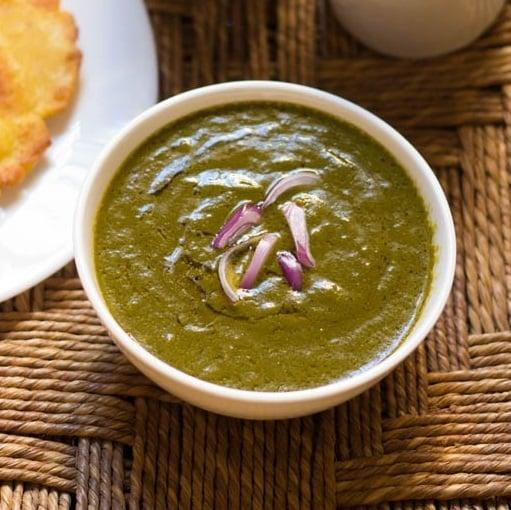saag: (91, 104, 439, 389)
